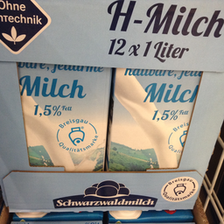milk: (108, 67, 202, 179), (18, 62, 110, 170)
